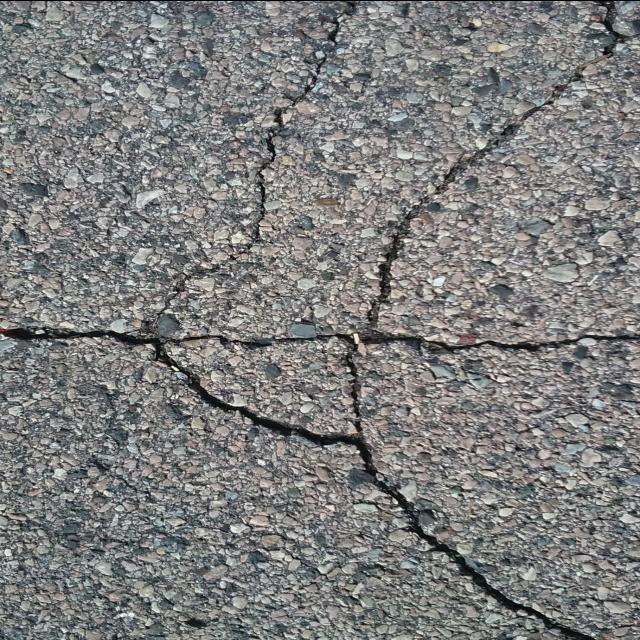Crack: (0, 0, 640, 640), (156, 340, 355, 435)
